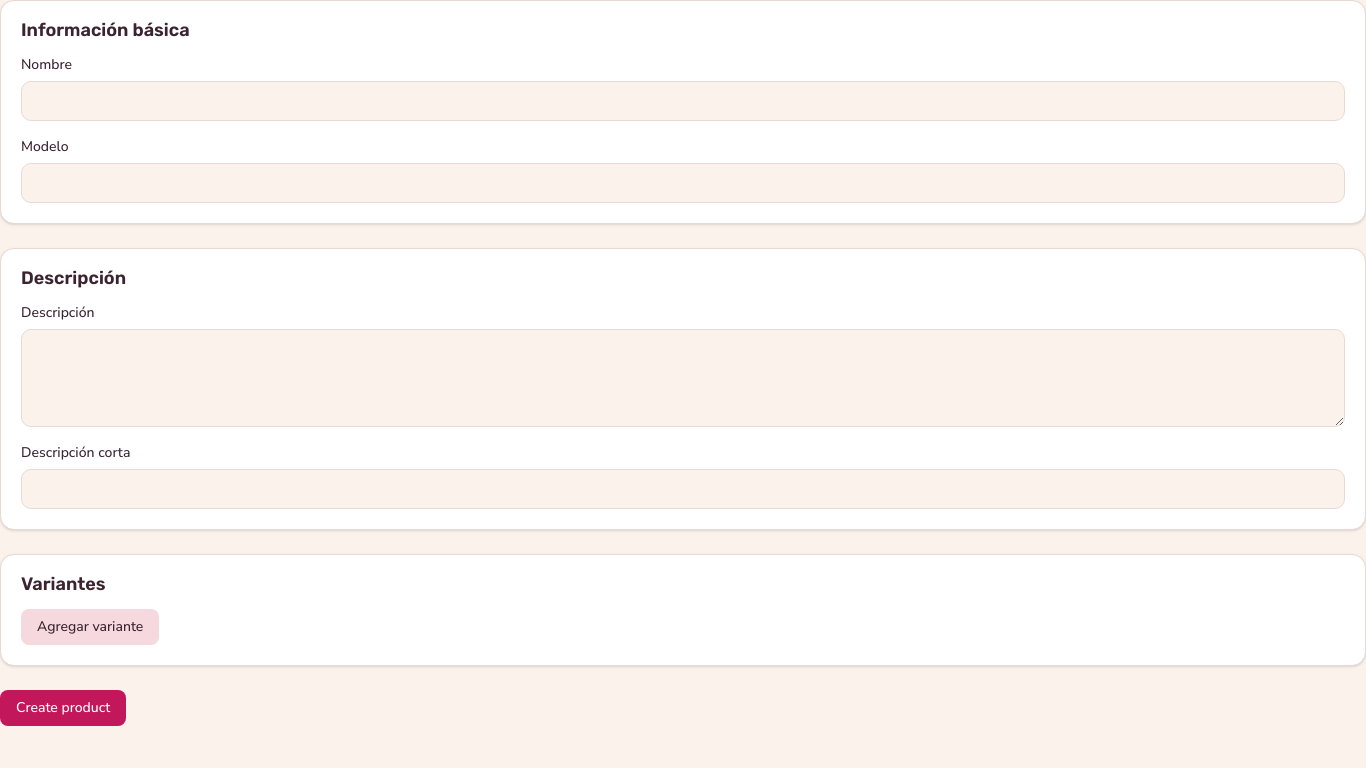
ProductForm › adds a new, unsaved variant row on demand
The width and height of the screenshot is (1366, 768).
Click the button "Agregar variante" at (90, 627), box [21, 609, 159, 645]
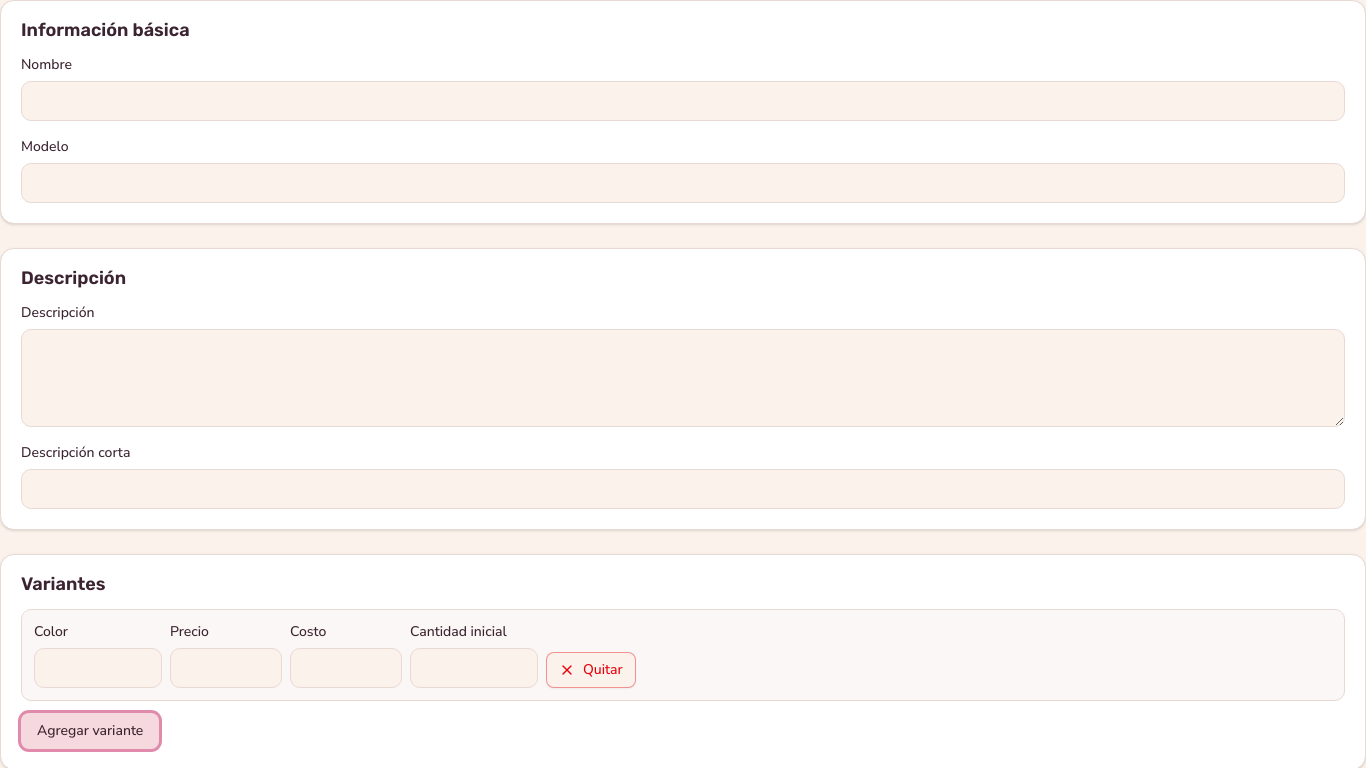
Check: the number of fields labelled "Color" is 1, box [34, 648, 162, 688]
